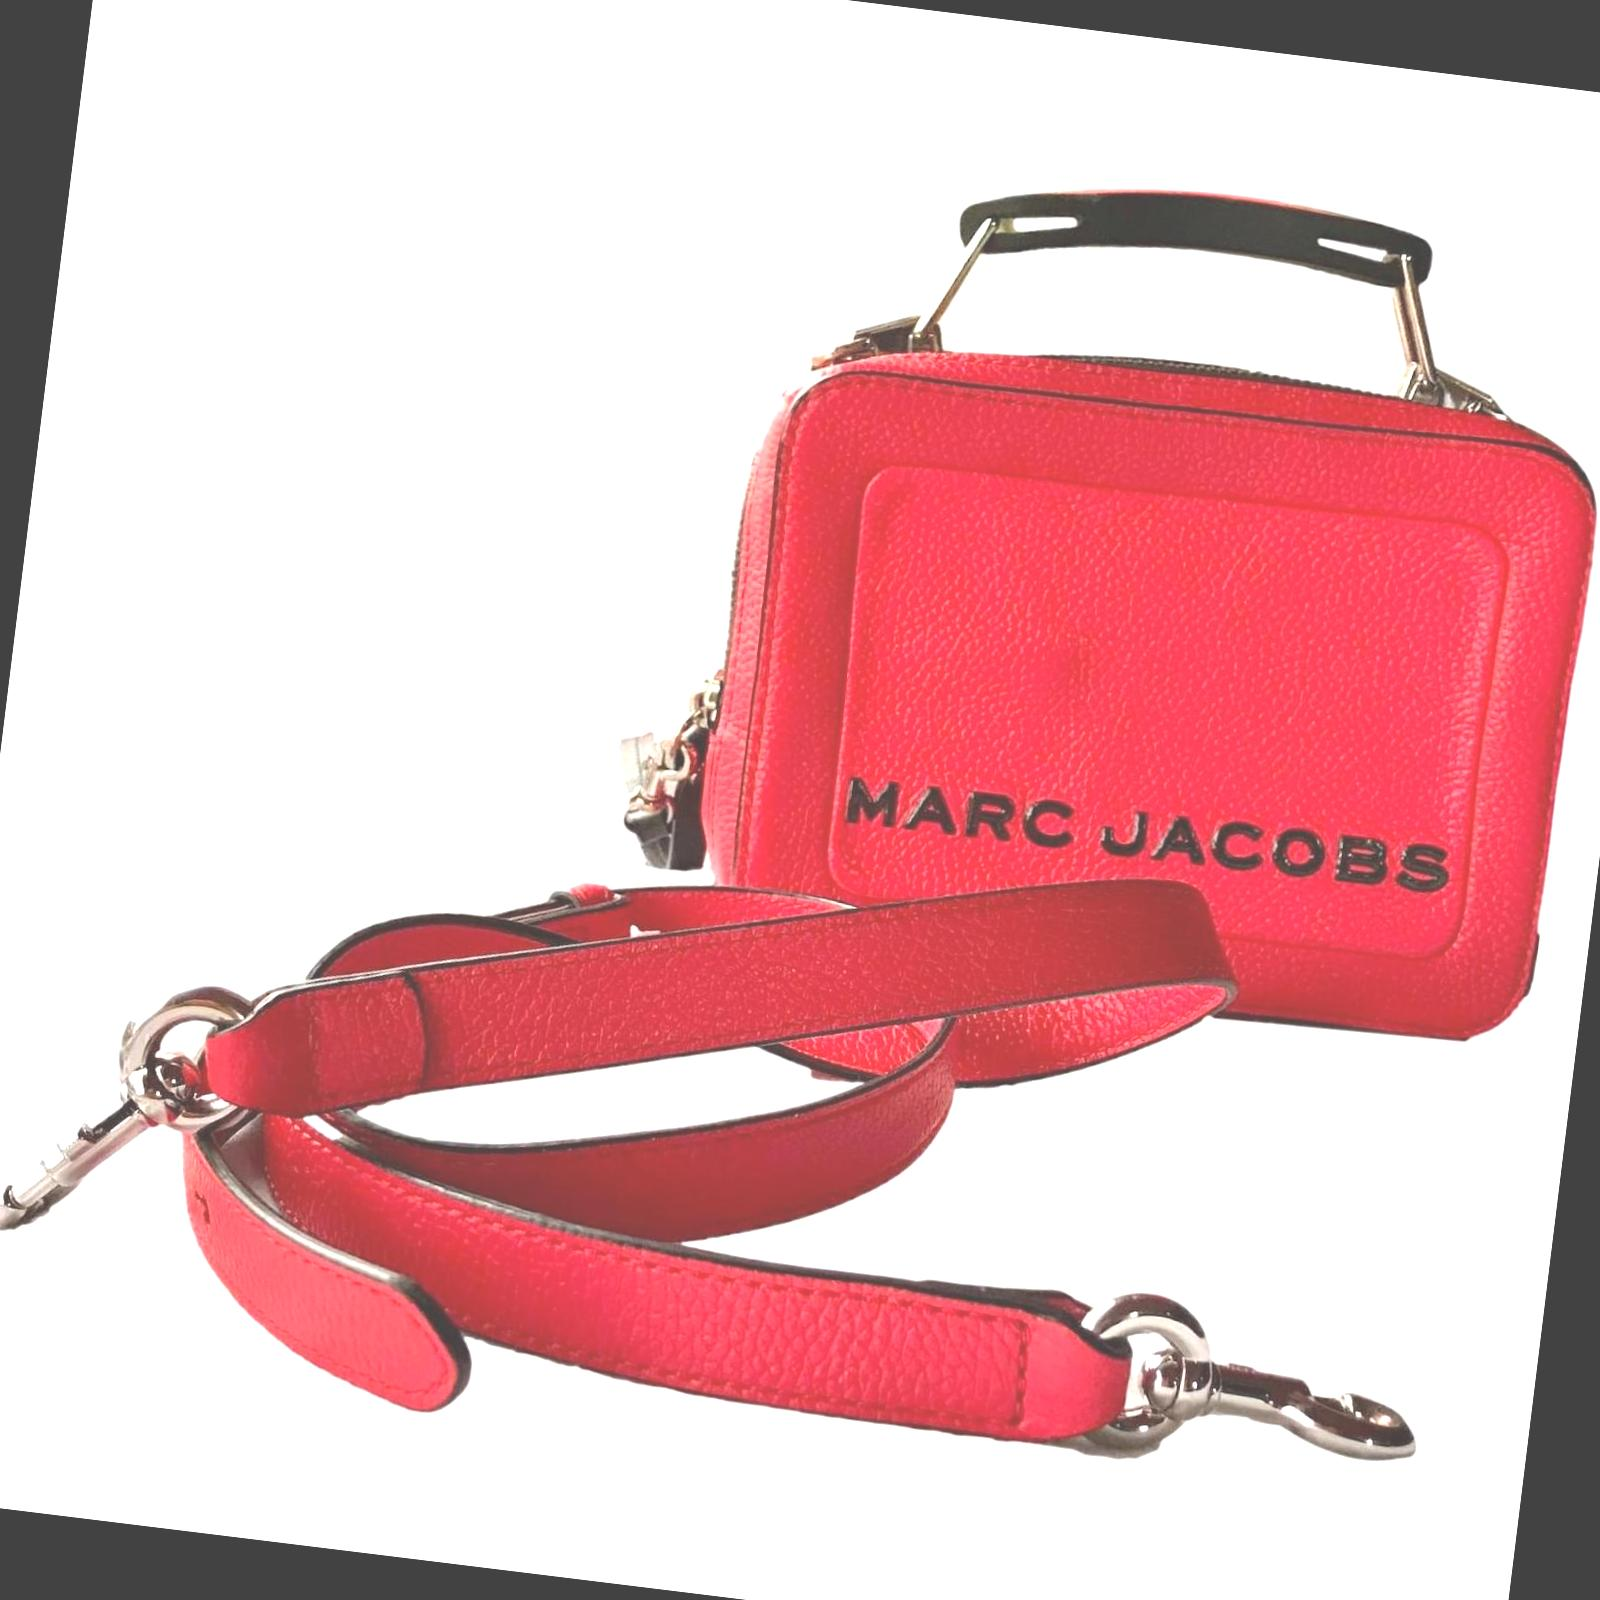MARC-JACOBS: (844, 774, 1452, 895)
